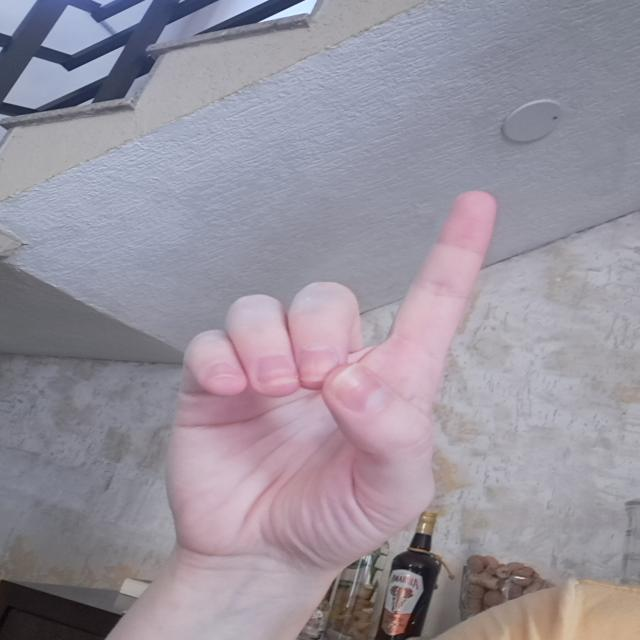D2: (152, 167, 504, 596)
